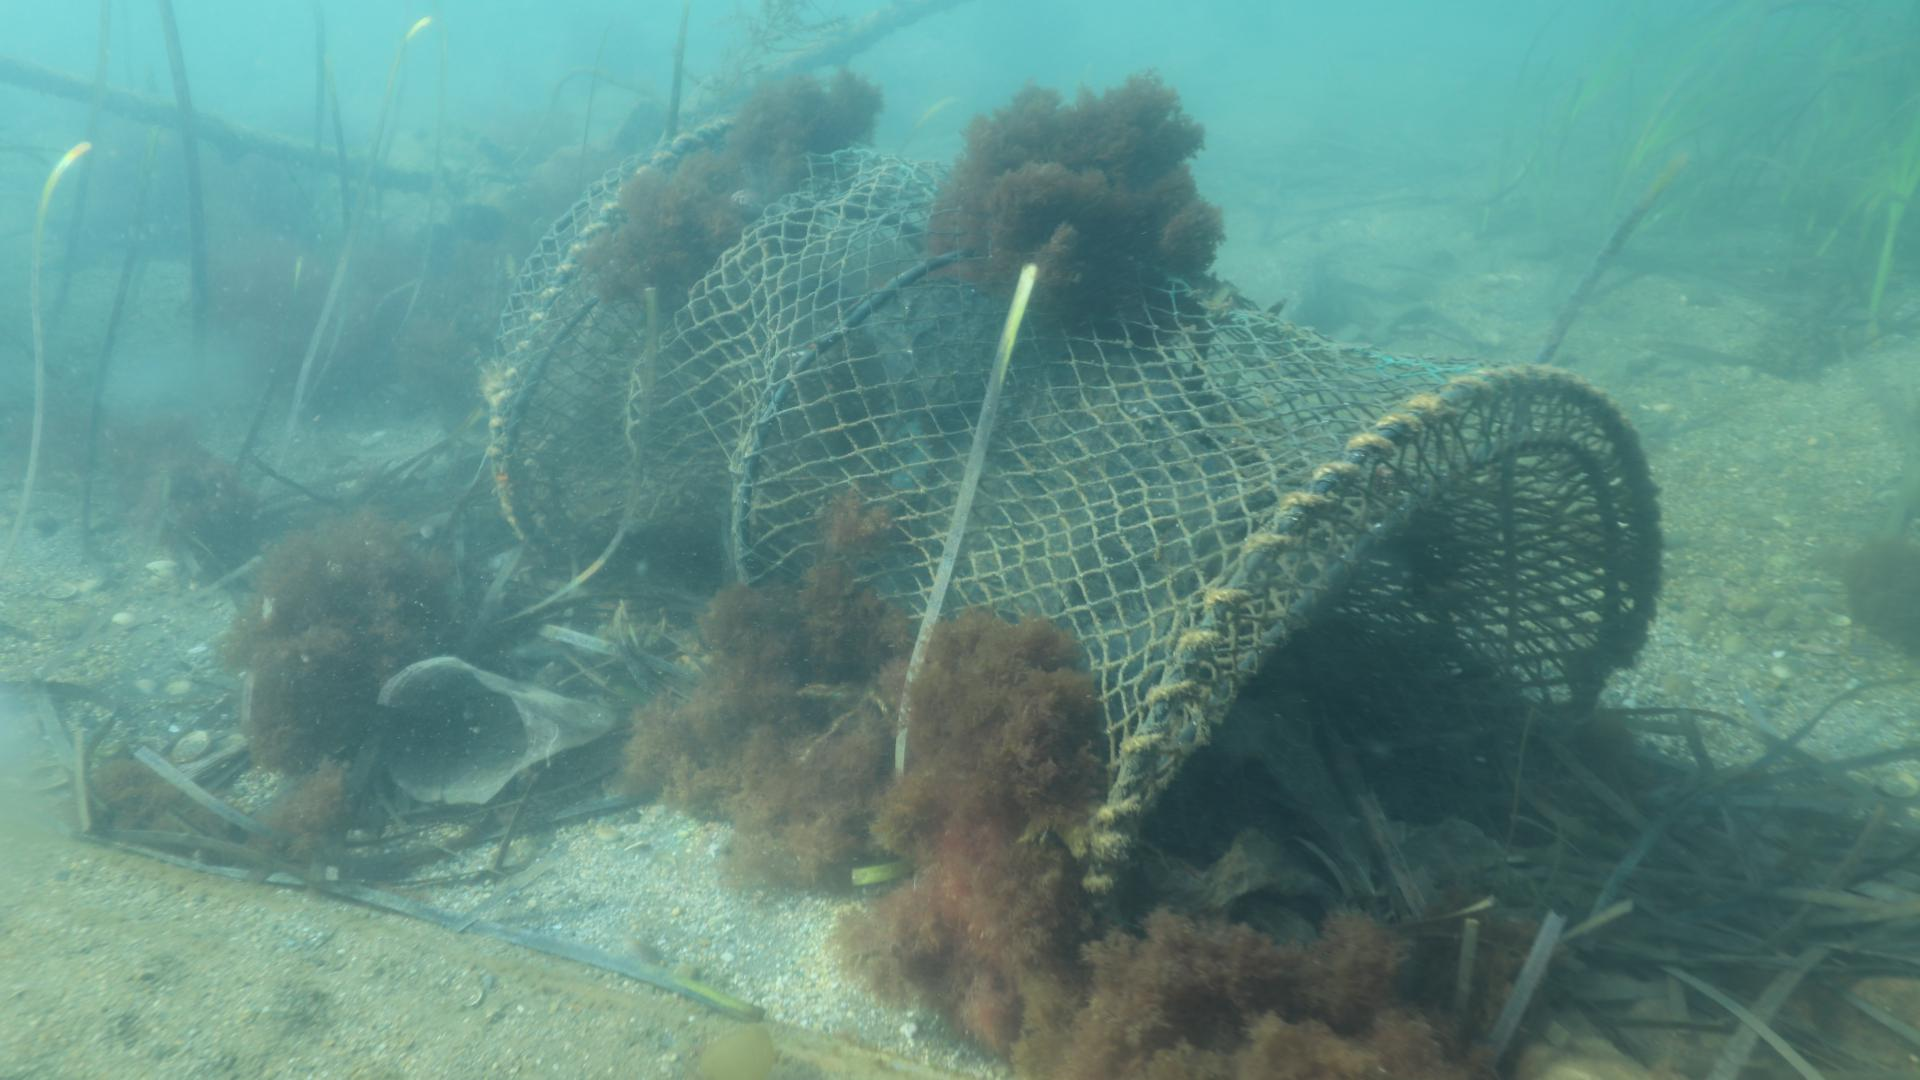spring fish trap: (481, 103, 1665, 916)
